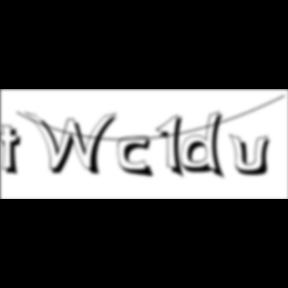1: (156, 114, 190, 182)
W: (25, 110, 123, 178)
c: (118, 136, 158, 180)
d: (180, 110, 230, 182)
t: (0, 124, 28, 179)
u: (229, 132, 277, 178)
